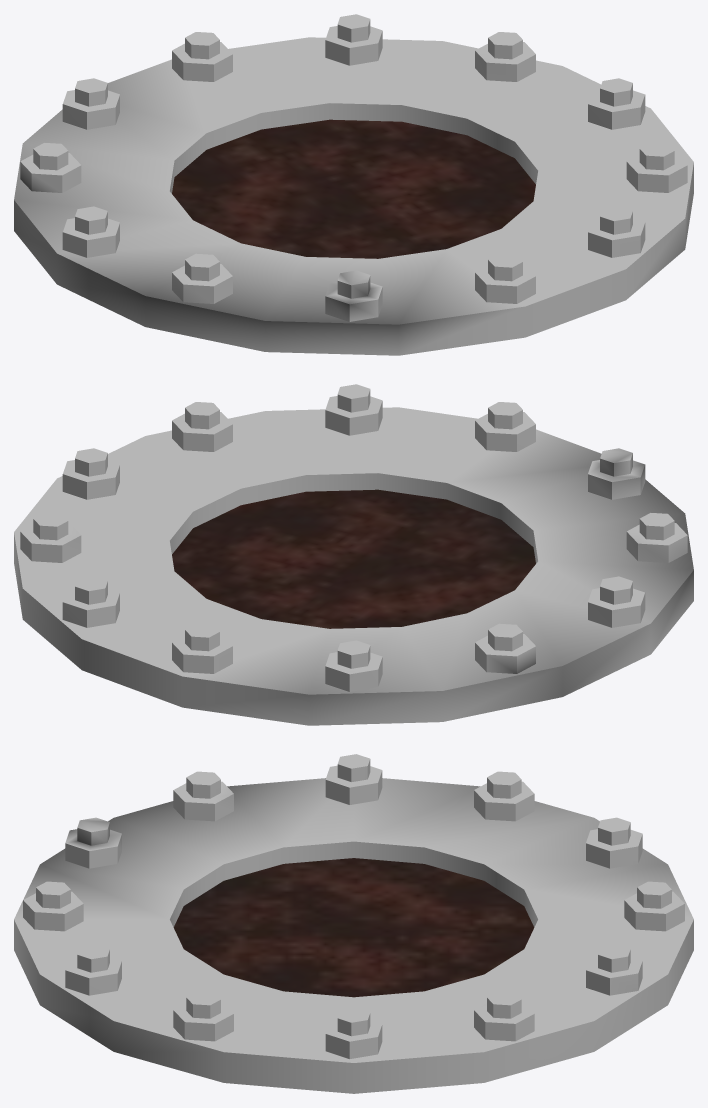
File: Pipe_Grille_Cap.fbx
3 views of the same model, one above another, from view 1: azimuth 30°, elevation 25°; view 2: azimuth 150°, elevation 25°; view 3: azimuth 270°, elevation 25° (orthographic).
Visible parts, largest first — view 1: Pipe_Grille_Cap; view 2: Pipe_Grille_Cap; view 3: Pipe_Grille_Cap.
Part boxes in pixels (box(x1,y1,x2,y2)): Pipe_Grille_Cap: box(14, 14, 693, 355); Pipe_Grille_Cap: box(14, 384, 693, 725); Pipe_Grille_Cap: box(14, 754, 693, 1093).
Bounding box in the file's own units: 100 × 10.03 × 100.
